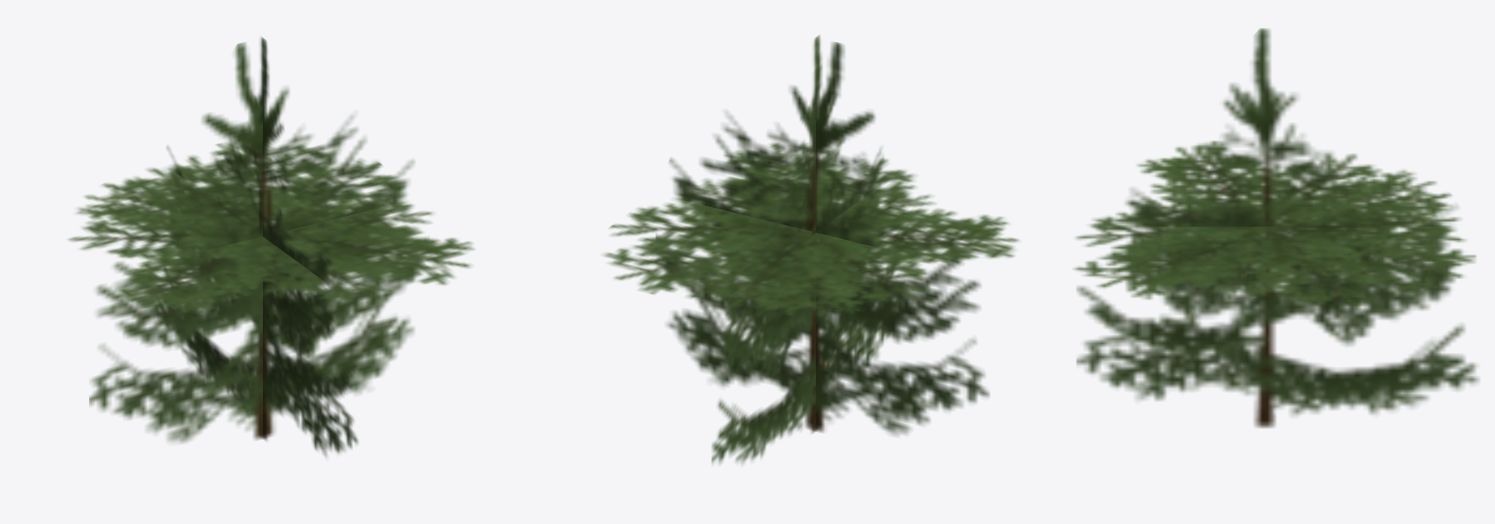
The model's file is fir-small-2-lod-3.glb.
3 renders of one model, left to right at view 1: azimuth 30°, elevation 25°; view 2: azimuth 150°, elevation 25°; view 3: azimuth 270°, elevation 25°, orthographic.
Parts seen in each view (by area): view 1: fir-small-2-lod-3; view 2: fir-small-2-lod-3; view 3: fir-small-2-lod-3.
Boxes of the visible parts, x1,y1,x2,y2 form: fir-small-2-lod-3: (68,37,473,456); fir-small-2-lod-3: (603,35,1018,464); fir-small-2-lod-3: (1074,28,1479,427).
Size of the model in its own units: 1.24 by 1.38 by 1.28.
Materials: 1 (1 with a texture image).
